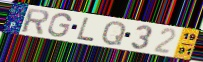2: (152, 28, 178, 55)
3: (130, 24, 154, 51)
G: (46, 12, 73, 39)
L: (76, 17, 96, 43)
Q: (100, 20, 127, 47)
R: (20, 7, 50, 36)
